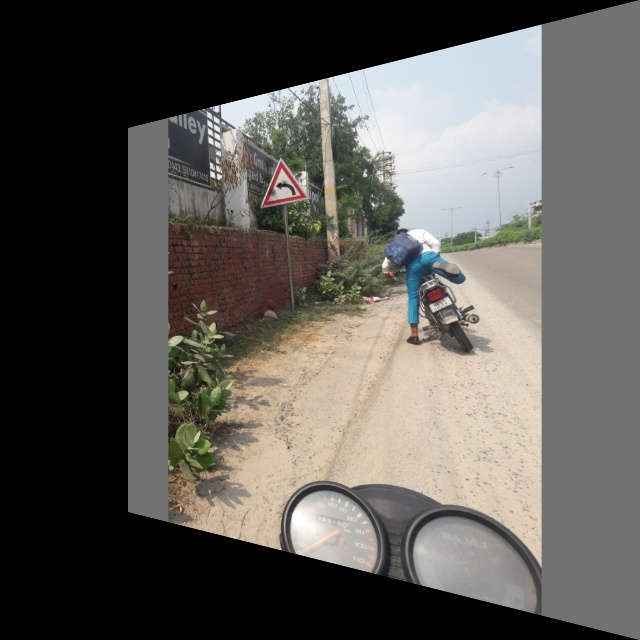Left_Hand_Curve: (258, 152, 310, 212)
